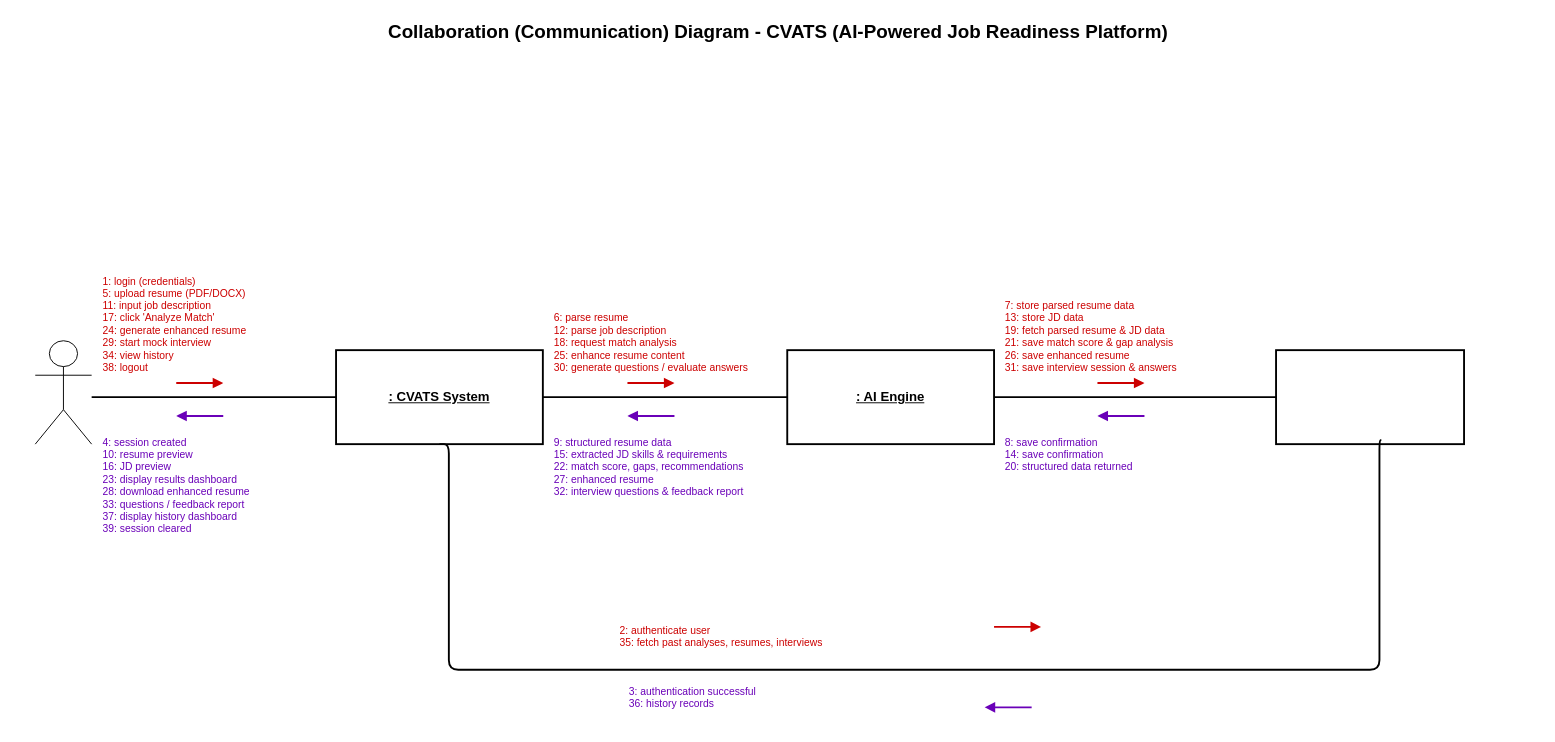
Image size: 1555x742. Some labels were removed from this diagram. Each missing label, with the box of its shape:
: Database: (1275, 349, 1465, 445)
User: (34, 340, 92, 444)
